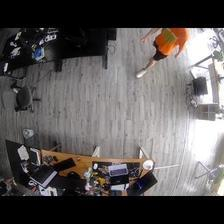normal: (134, 27, 189, 77)
